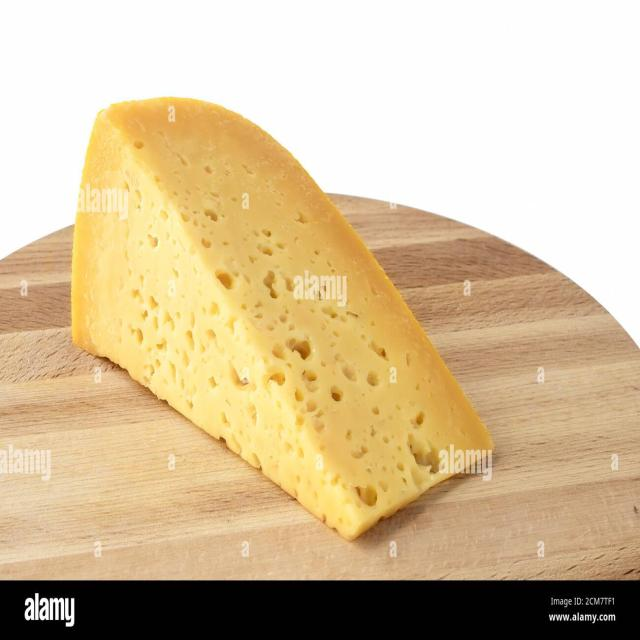Cheese: (61, 101, 500, 542)
